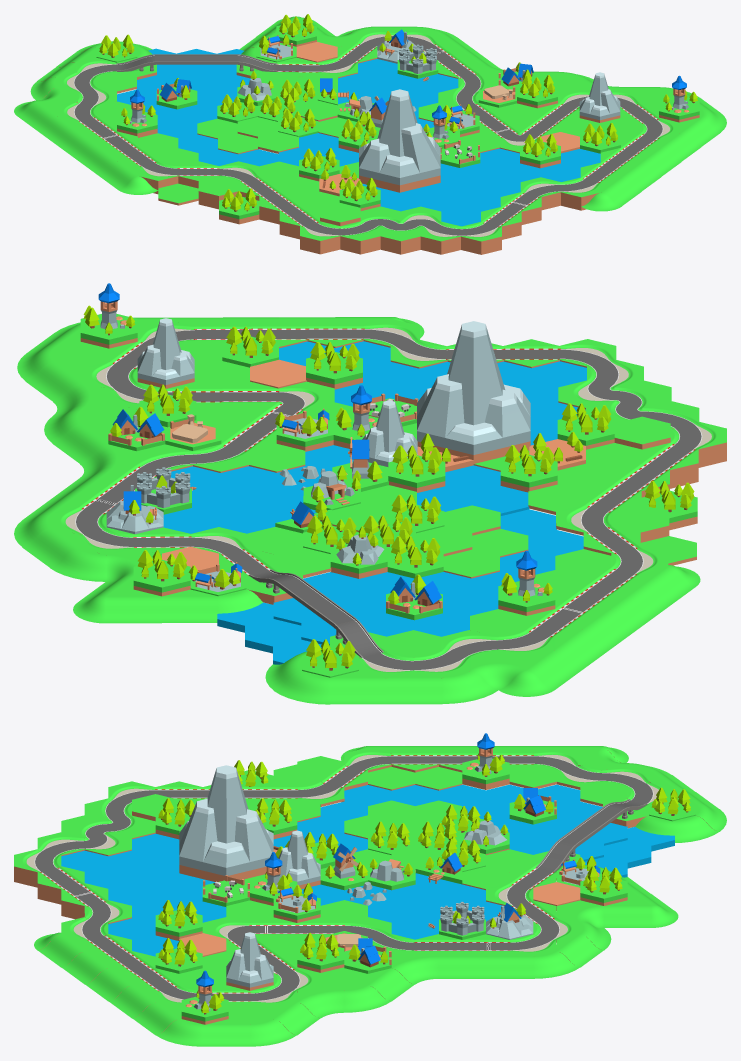
File: SC_HexMix.fbx
3 views of the same model, one above another, from view 1: azimuth 30°, elevation 25°; view 2: azimuth 150°, elevation 25°; view 3: azimuth 270°, elevation 25° (orthographic). The views are drawn at different scales.
Visible parts, largest first — view 1: SM_Stone_Mountain.001, SM_Stone_Mountain.002, SM_Building_Tower.001, SM_Building_Tower.002, SM_Grass_Forest.008, SM_Building_Castle, SM_Grass_Forest.010, SM_Grass_Forest.012, SM_Grass_Forest.009, SM_Building_Village, SM_Grass_Forest.007, SM_Grass_Forest.003 (+140 smaller); view 2: SM_Stone_Mountain.001, SM_Stone_Mountain.002, SM_Building_Tower.002, SM_Building_Tower.001, SM_Grass_Forest.007, SM_Grass_Forest.005, SM_Grass_Forest.010, SM_Grass_Forest.003, SM_Grass_Hill, SM_Building_Castle, SM_Building_Market, SM_Grass_Forest.009 (+152 smaller); view 3: SM_Stone_Mountain.001, SM_Stone_Mountain.002, SM_Building_Tower.001, SM_Building_Tower.002, SM_Stone_Mountain, SM_Grass_Forest.010, SM_Grass_Forest.003, SM_Building_Castle, SM_Grass_Forest.012, SM_Building_Market, SM_Building_Mill, SM_Building_Village (+142 smaller).
Boxes of the visible parts, bbox=[...] form: SM_Stone_Mountain.001: bbox=[359, 89, 440, 192]; SM_Stone_Mountain.002: bbox=[579, 72, 620, 122]; SM_Building_Tower.001: bbox=[117, 89, 157, 137]; SM_Building_Tower.002: bbox=[659, 75, 699, 122]; SM_Grass_Forest.008: bbox=[219, 188, 259, 224]; SM_Building_Castle: bbox=[397, 44, 438, 78]; SM_Grass_Forest.010: bbox=[520, 134, 560, 168]; SM_Grass_Forest.012: bbox=[517, 75, 557, 108]; SM_Grass_Forest.009: bbox=[339, 178, 380, 210]; SM_Building_Village: bbox=[156, 78, 197, 109]; SM_Grass_Forest.007: bbox=[299, 148, 339, 181]; SM_Grass_Forest.003: bbox=[276, 14, 316, 46]; SM_Stone_Mountain.001: bbox=[417, 321, 530, 463]; SM_Stone_Mountain.002: bbox=[137, 318, 194, 388]; SM_Building_Tower.002: bbox=[80, 283, 137, 348]; SM_Building_Tower.001: bbox=[498, 550, 555, 615]; SM_Grass_Forest.007: bbox=[500, 445, 557, 492]; SM_Grass_Forest.005: bbox=[388, 445, 445, 492]; SM_Grass_Forest.010: bbox=[306, 342, 362, 389]; SM_Grass_Forest.003: bbox=[133, 550, 190, 596]; SM_Grass_Hill: bbox=[330, 526, 387, 578]; SM_Building_Castle: bbox=[135, 467, 191, 514]; SM_Building_Market: bbox=[275, 408, 333, 451]; SM_Grass_Forest.009: bbox=[557, 403, 614, 449]; SM_Stone_Mountain.001: bbox=[179, 765, 273, 881]; SM_Stone_Mountain.002: bbox=[226, 932, 273, 990]; SM_Building_Tower.001: bbox=[462, 733, 509, 789]; SM_Building_Tower.002: bbox=[181, 970, 228, 1024]; SM_Stone_Mountain: bbox=[278, 830, 320, 889]; SM_Grass_Forest.010: bbox=[155, 900, 202, 940]; SM_Grass_Forest.003: bbox=[580, 866, 627, 905]; SM_Building_Castle: bbox=[439, 901, 485, 939]; SM_Grass_Forest.012: bbox=[297, 933, 344, 972]; SM_Building_Market: bbox=[273, 883, 320, 922]; SM_Building_Mill: bbox=[320, 843, 367, 890]; SM_Building_Village: bbox=[509, 788, 556, 824].
Size of what is drawn, in the model's own units: 150 by 24.83 by 151.
